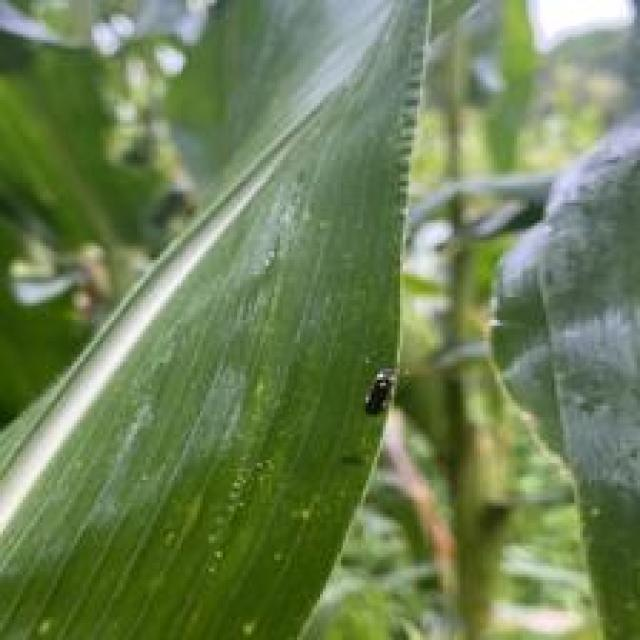Plaga: (353, 365, 418, 448)
